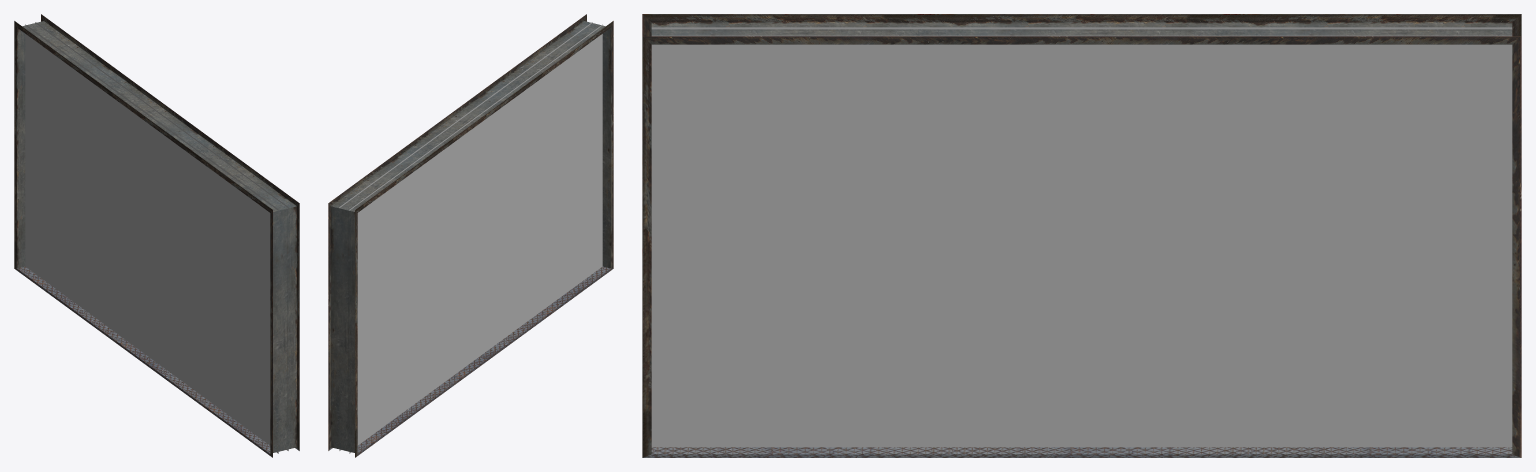
Rendered from DoorFrameClosedB.FBX.
3 views of the same model, side by side, from view 1: azimuth 30°, elevation 25°; view 2: azimuth 150°, elevation 25°; view 3: azimuth 270°, elevation 25° (orthographic). The views are drawn at different scales.
Visible parts, largest first — view 1: DoorFrameClosedB; view 2: DoorFrameClosedB; view 3: DoorFrameClosedB.
Boxes of the visible parts, left/top/right/bottom form: DoorFrameClosedB: left=14, top=14, right=299, bottom=457; DoorFrameClosedB: left=328, top=14, right=613, bottom=457; DoorFrameClosedB: left=642, top=14, right=1521, bottom=457.
Size of the model in its own units: 36.83 by 325 by 614.
